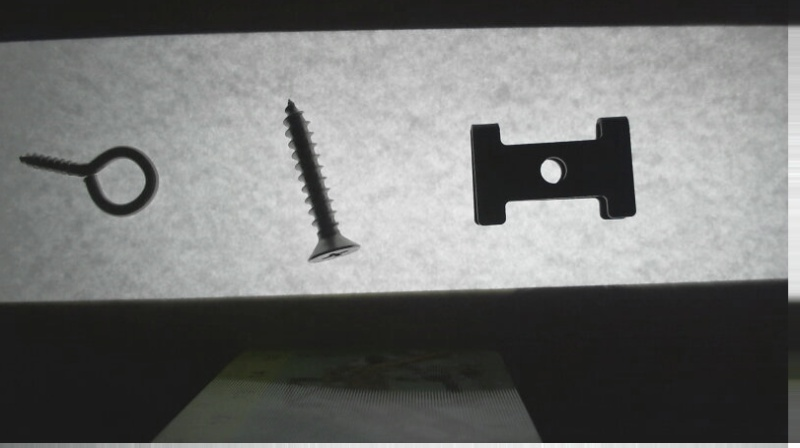O001: (15, 139, 166, 220)
O002: (467, 114, 643, 227)
S001: (278, 96, 362, 267)
